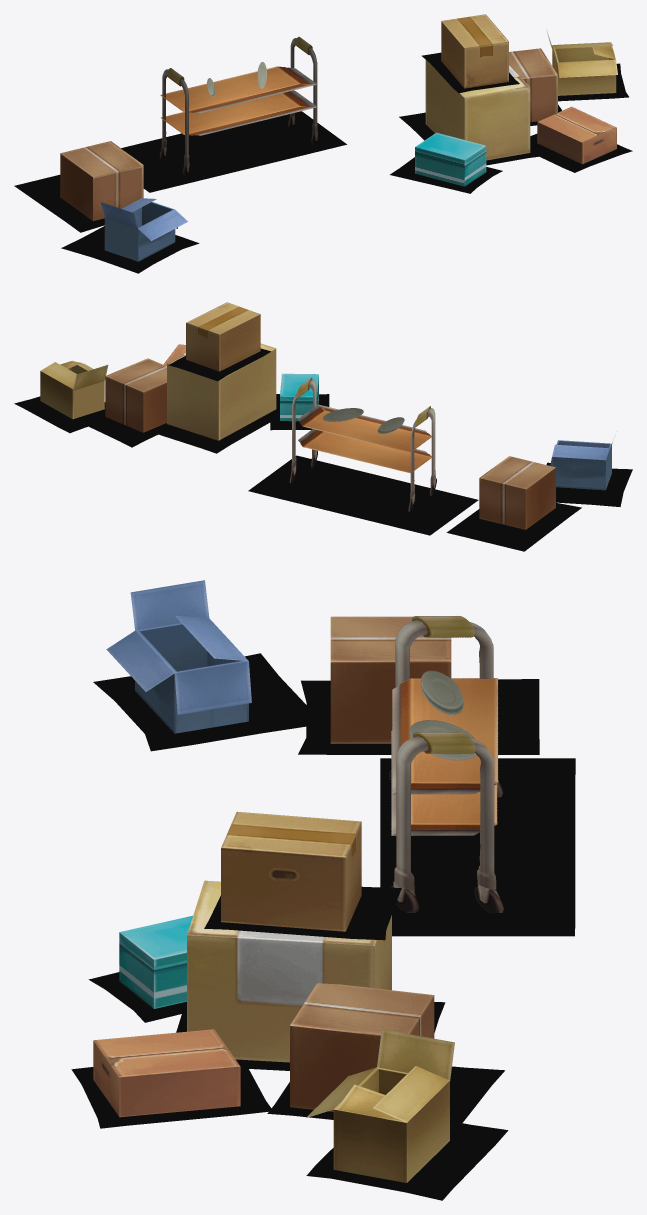
File: K1_carton1.FBX
3 views of the same model, one above another, from view 1: azimuth 30°, elevation 25°; view 2: azimuth 150°, elevation 25°; view 3: azimuth 270°, elevation 25° (orthographic). The views are drawn at different scales.
Parts seen in each view (by area): view 1: carton03_yy, carton03, carton11, carton14, carton10, carton07, carton08, carton12, carton09, carton06, carton07_yy, carton_yy_05 (+5 smaller); view 2: carton03_yy, carton11, carton03, carton14, carton10, carton06, carton12, carton07, carton_yy_05, carton07_yy, carton_yy_02, carton09 (+5 smaller); view 3: carton03_yy, carton03, carton11, carton10, carton12, carton07, carton06, carton08, carton14, carton07_yy, carton_yy_05, carton09 (+8 smaller).
Boxes of the visible parts, box(x1,y1,x2,y2) form: carton03_yy: box(121, 111, 346, 192); carton03: box(159, 36, 318, 176); carton11: box(425, 60, 530, 160); carton14: box(60, 141, 143, 220); carton10: box(441, 14, 508, 88); carton07: box(100, 198, 188, 261); carton08: box(537, 106, 616, 164); carton12: box(546, 30, 617, 95); carton09: box(415, 132, 486, 186); carton06: box(509, 48, 557, 121); carton07_yy: box(61, 226, 199, 273); carton_yy_05: box(14, 174, 104, 232); carton03_yy: box(248, 455, 478, 535); carton11: box(167, 343, 276, 440); carton03: box(289, 377, 436, 511); carton14: box(479, 456, 555, 529); carton10: box(186, 302, 260, 371); carton06: box(105, 358, 166, 432); carton12: box(40, 360, 108, 419); carton07: box(550, 440, 612, 490); carton_yy_05: box(446, 502, 581, 551); carton07_yy: box(546, 462, 632, 507); carton_yy_02: box(159, 404, 279, 453); carton09: box(280, 373, 318, 421); carton03_yy: box(380, 758, 575, 936); carton03: box(389, 616, 503, 912); carton11: box(187, 880, 391, 1062); carton10: box(221, 811, 361, 931); carton12: box(306, 1029, 454, 1182); carton07: box(106, 580, 251, 733); carton06: box(290, 983, 434, 1111); carton08: box(93, 1029, 240, 1117); carton14: box(330, 616, 451, 743); carton07_yy: box(93, 653, 306, 751); carton_yy_05: box(298, 679, 539, 754); carton09: box(119, 915, 192, 1008).
Size of the model in its own units: 6.06 by 1.03 by 2.36.
